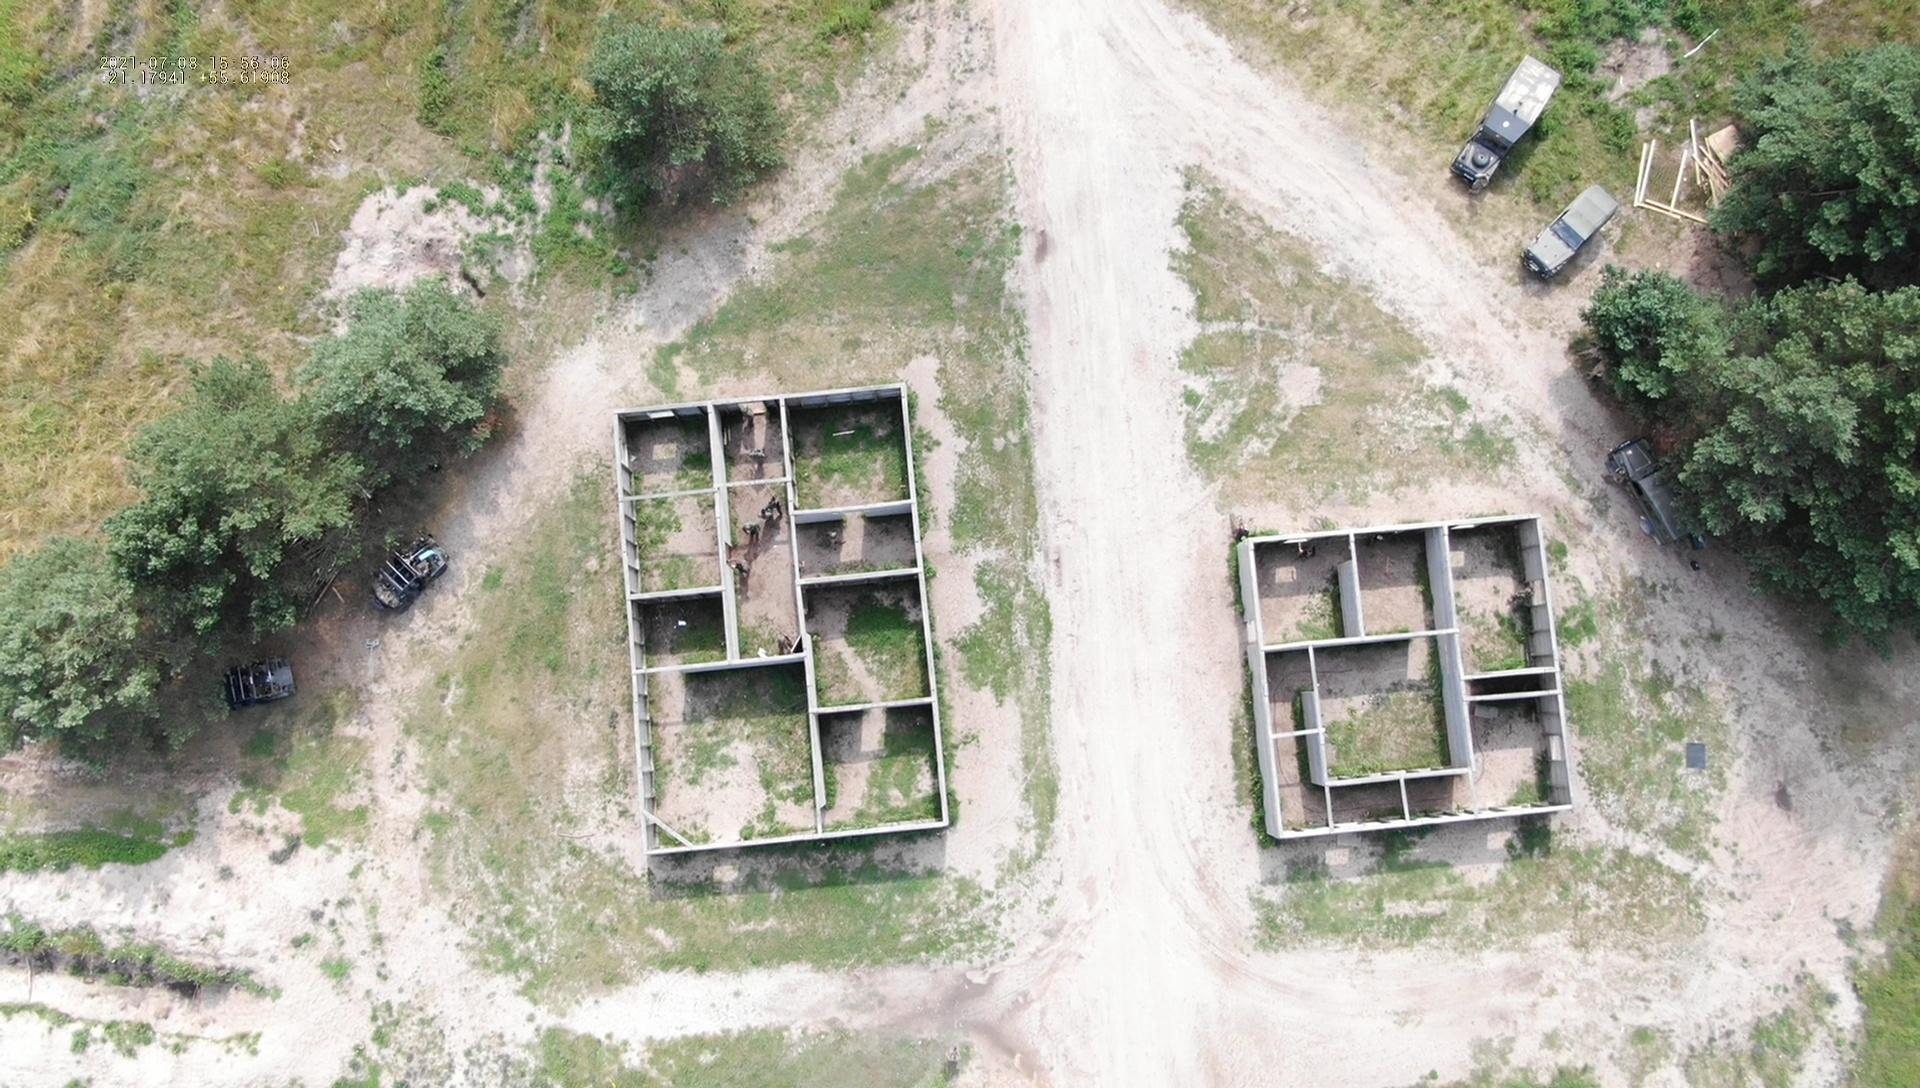Soldier: (1088, 715, 1247, 903), (949, 116, 1069, 289), (775, 183, 864, 277), (1406, 145, 1501, 231), (735, 356, 815, 438), (1034, 193, 1102, 287), (613, 22, 687, 102), (836, 408, 901, 491), (930, 971, 993, 1048), (839, 324, 906, 385), (1006, 531, 1065, 591)
